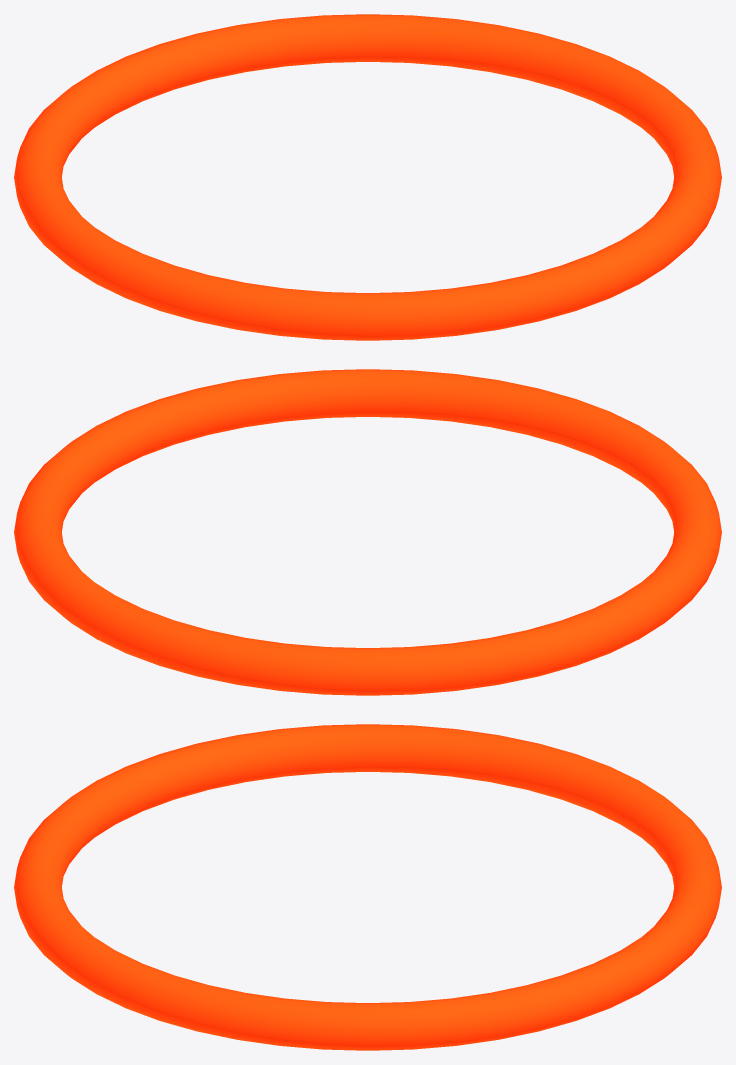
File: cember.fbx
3 views of the same model, one above another, from view 1: azimuth 30°, elevation 25°; view 2: azimuth 150°, elevation 25°; view 3: azimuth 270°, elevation 25° (orthographic).
Parts seen in each view (by area): view 1: çember; view 2: çember; view 3: çember.
Part boxes in pixels (bbox=[...]): çember: bbox=[14, 14, 721, 340]; çember: bbox=[14, 369, 721, 695]; çember: bbox=[14, 724, 721, 1050].
Bounding box in the file's own units: 93.18 × 6.3 × 93.18.
